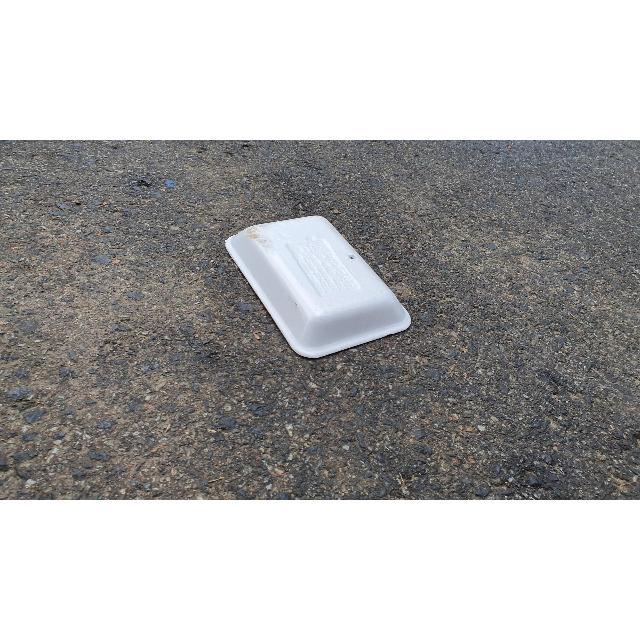Recipiente plastico: (226, 216, 411, 357)
